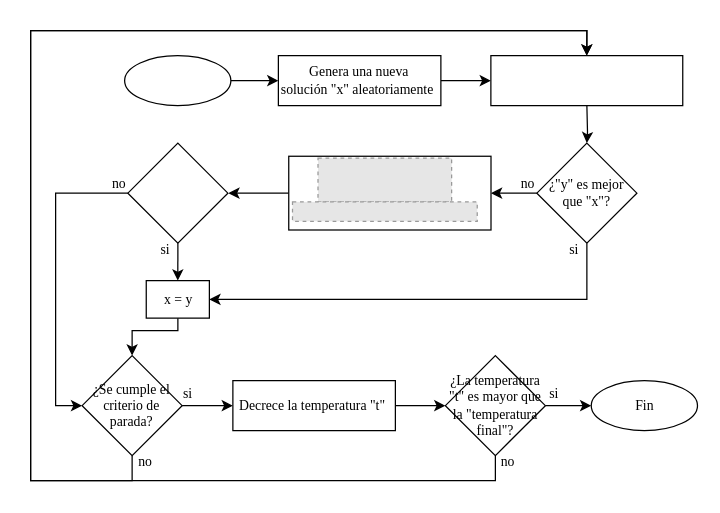
Some shapes in this 720 by 513 pixel diagram are drawn without their labels. Grey dashed boxes stand in for pictures. Here are the shapes that lost their labels. From the top down, the centre of each, then its label:
[177,80]: Inicio
[586,80]: Genera una solución candidata "y" aleatoriamente, basada en la actual solución x
[177,192]: ¿r < p?
